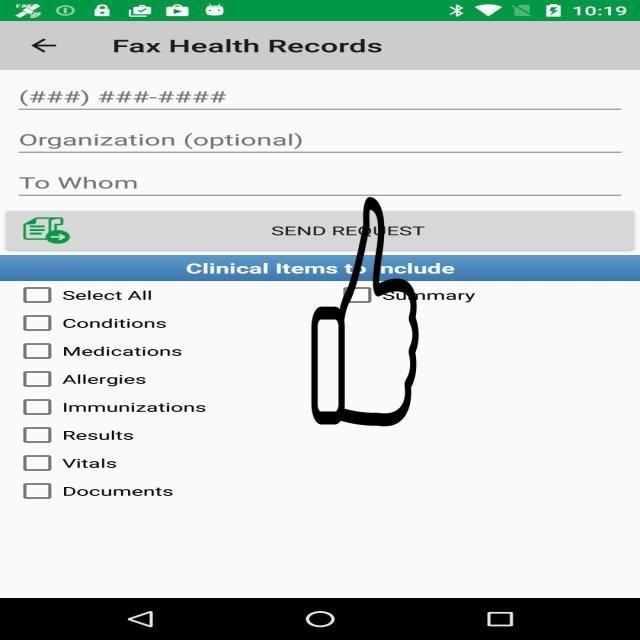privacy zuckering: (310, 197, 420, 426)
